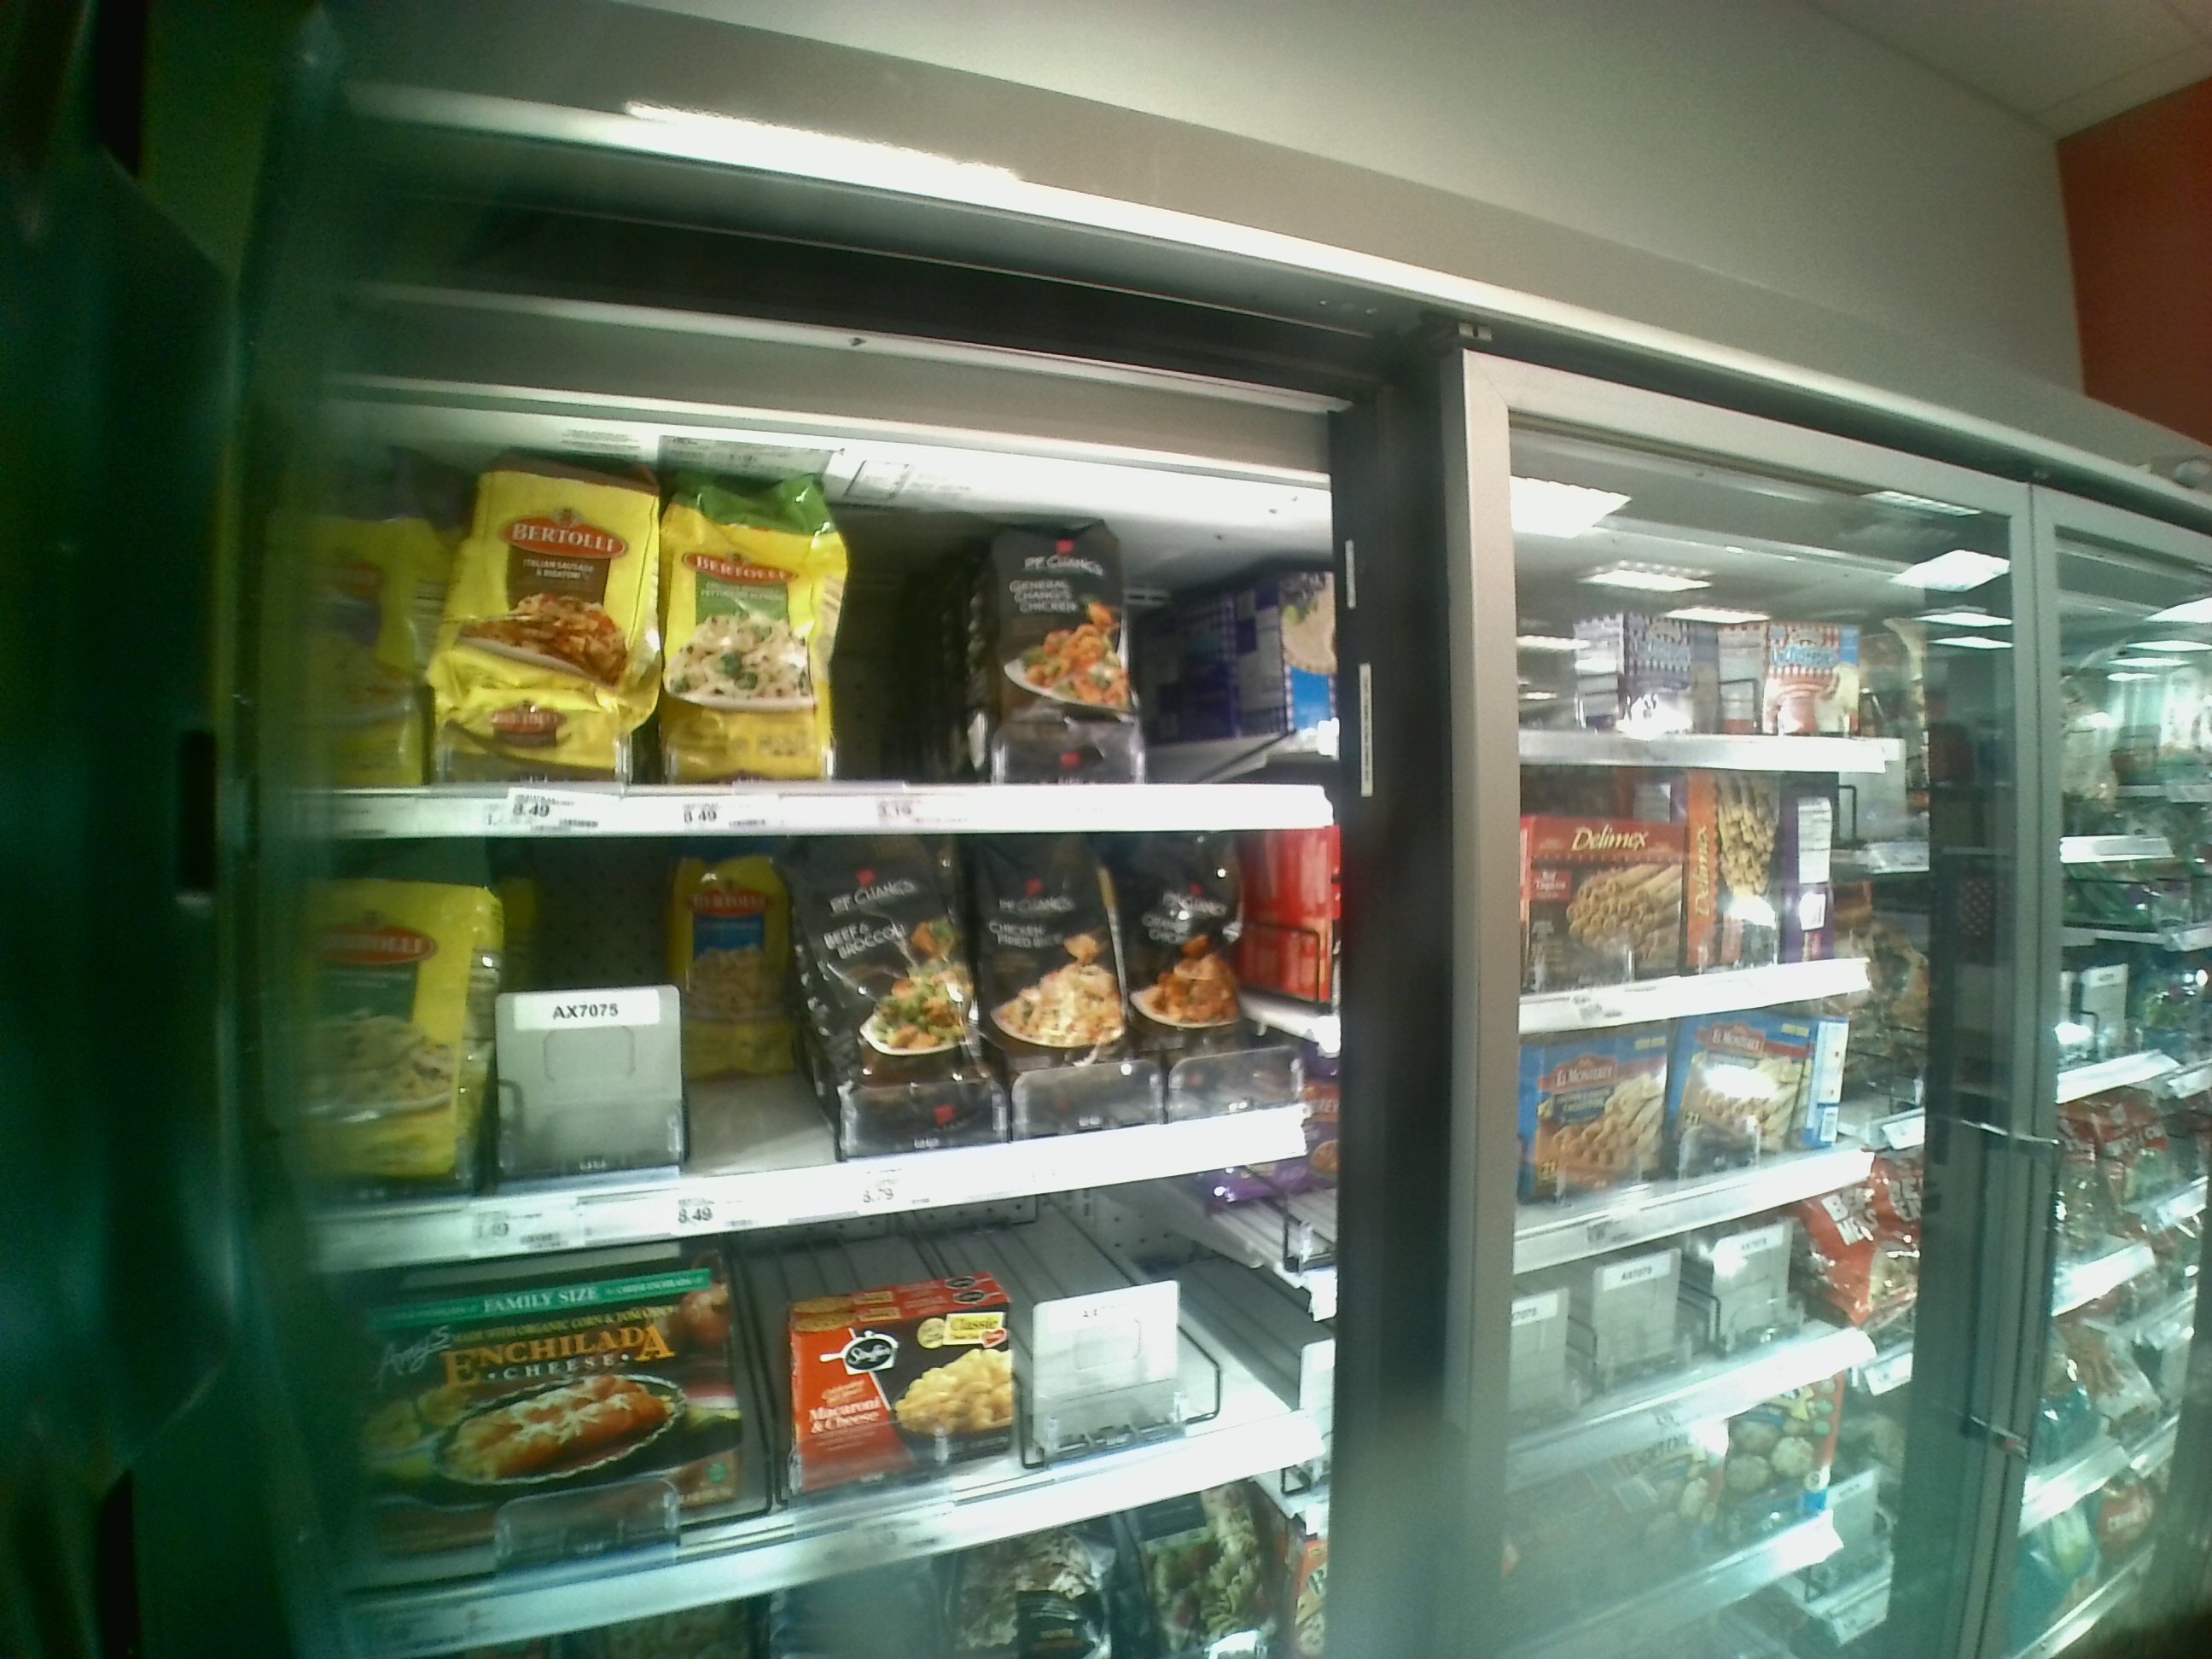shelf: (289, 840, 1348, 1236), (287, 430, 1339, 826), (310, 1232, 1327, 1567)
